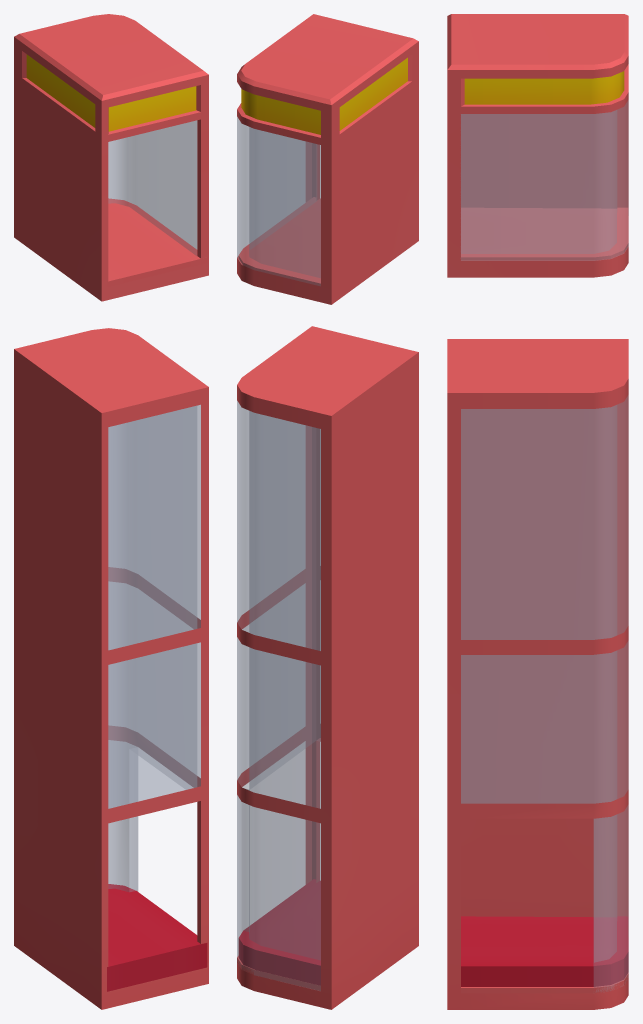
Rendered from Thang may.fbx.
3 views of the same model, side by side, from view 1: azimuth 30°, elevation 25°; view 2: azimuth 150°, elevation 25°; view 3: azimuth 270°, elevation 25° (orthographic). The views are drawn at different scales.
Parts seen in each view (by area): view 1: Thang_may; view 2: Thang_may; view 3: Thang_may.
Boxes of the visible parts, x1,y1,x2,y2 form: Thang_may: (14,14,208,1009); Thang_may: (237,14,418,1009); Thang_may: (447,14,628,1009).
Size of the model in its own units: 172 by 1401 by 244.
